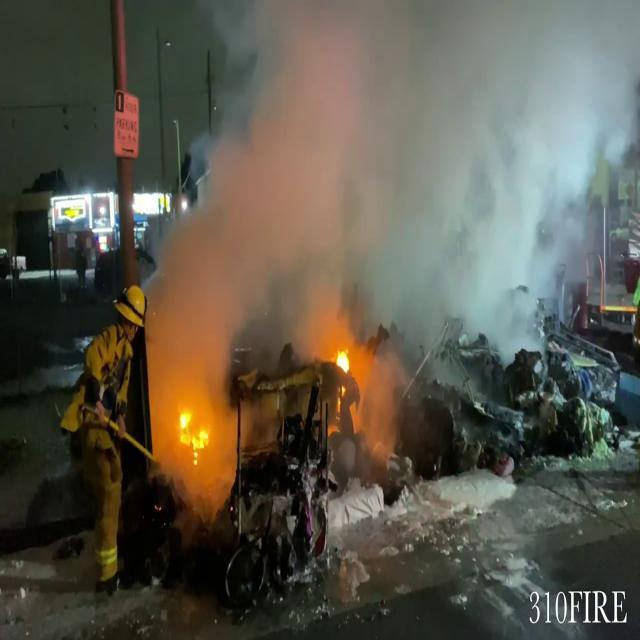Fire: (174, 394, 212, 462), (326, 333, 359, 399)
Smoke: (139, 1, 640, 359)
